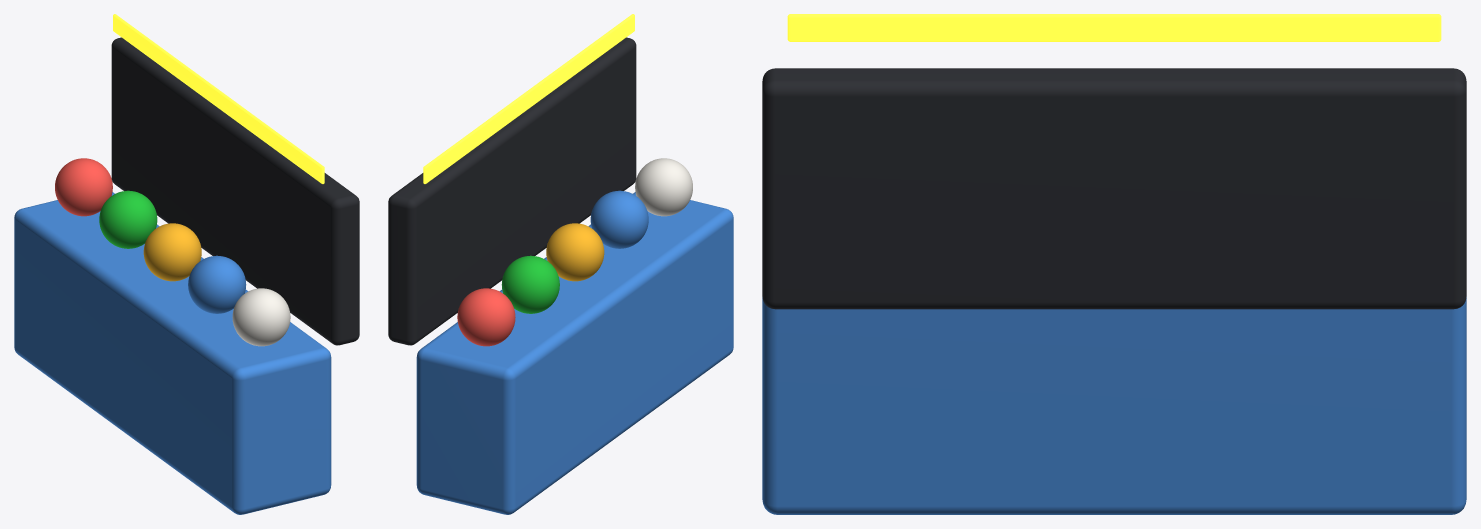
The model's file is retro_arcade__prize_lounge.glb.
3 views of the same model, side by side, from view 1: azimuth 30°, elevation 25°; view 2: azimuth 150°, elevation 25°; view 3: azimuth 270°, elevation 25° (orthographic). The views are drawn at different scales.
Parts seen in each view (by area): view 1: Set, Glow; view 2: Set, Glow; view 3: Set, Glow.
Boxes of the visible parts, x1,y1,x2,y2 form: Set: [14, 37, 359, 514]; Glow: [113, 14, 324, 183]; Set: [388, 37, 733, 514]; Glow: [423, 14, 634, 183]; Set: [762, 68, 1466, 514]; Glow: [787, 14, 1441, 41].
Size of the model in its own units: 0.9 by 2.21 by 2.8.
